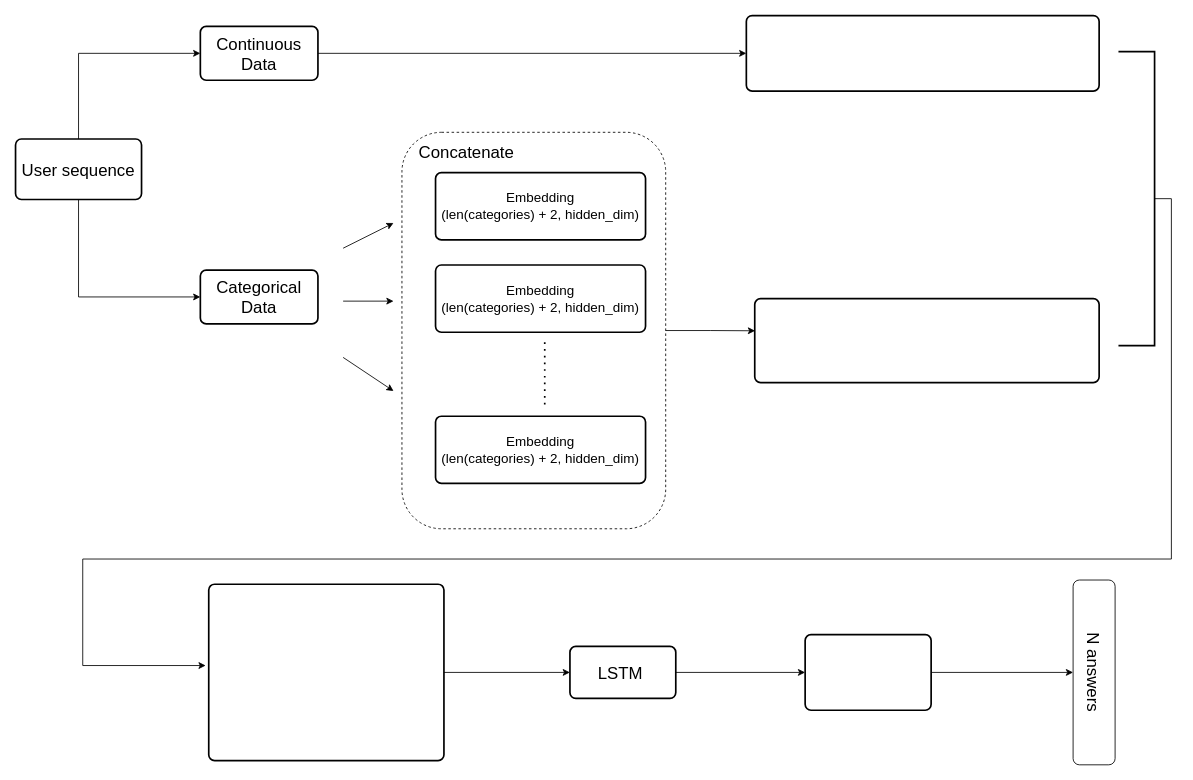
Some shapes in this 1193 by 780 pixel diagram are drawn without their labels. The centre of each missing label's shape, as x and y in pixels:
"Concatenate (batch_size, max_seq_len, proj_dim)" belongs at (x=325, y=672).
"Dense Layer" belongs at (x=868, y=672).
"Linear (hidden_dim * len(cate_data), proj_dim // 2)" belongs at (x=926, y=340).
"Linear (len(cont_data), proj_dim // 2)" belongs at (x=922, y=53).
